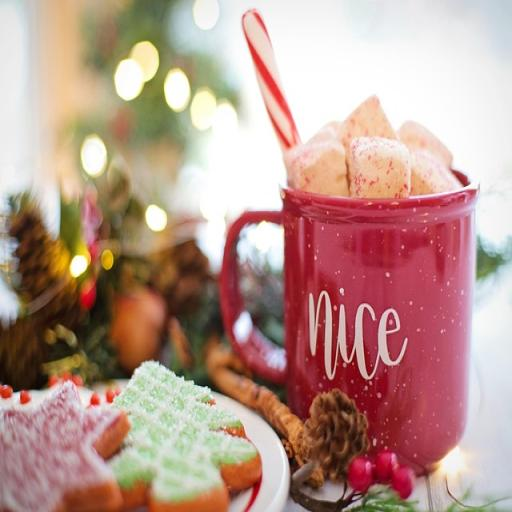phone: (218, 166, 479, 476)
